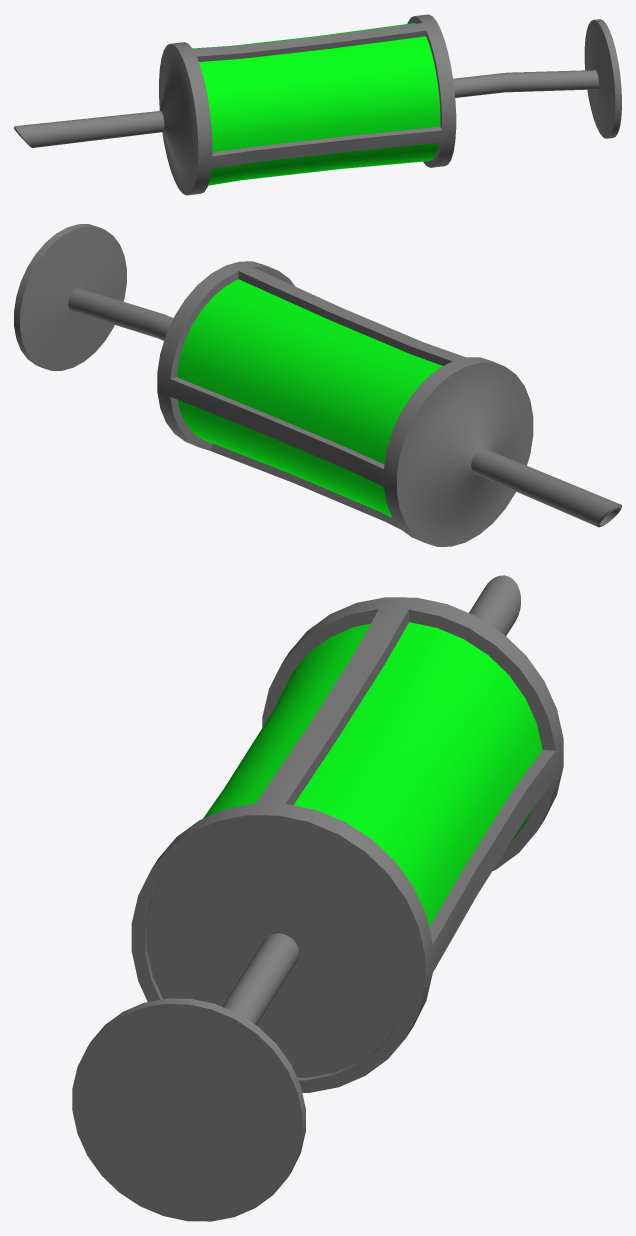
The model's file is picouze.FBX.
The picture shows the model from 3 angles, top to bottom: view 1: azimuth 30°, elevation 25°; view 2: azimuth 150°, elevation 25°; view 3: azimuth 270°, elevation 25°; orthographic projection. The views are drawn at different scales.
Parts seen in each view (by area): view 1: piquouse; view 2: piquouse; view 3: piquouse.
Part boxes in pixels (x1,y1,x2,y2): piquouse: (14,14,621,195); piquouse: (14,224,621,546); piquouse: (72,575,563,1221).
Bounding box in the file's own units: 153 × 61.88 × 38.5.
